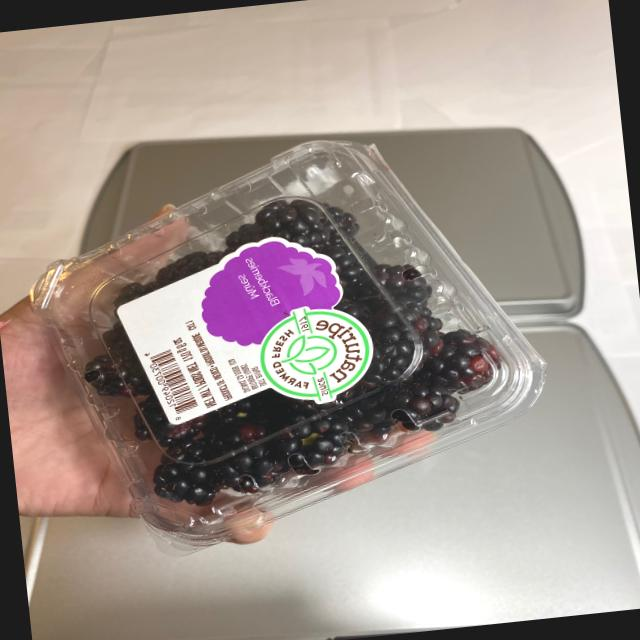blackberries: (46, 107, 546, 542)
